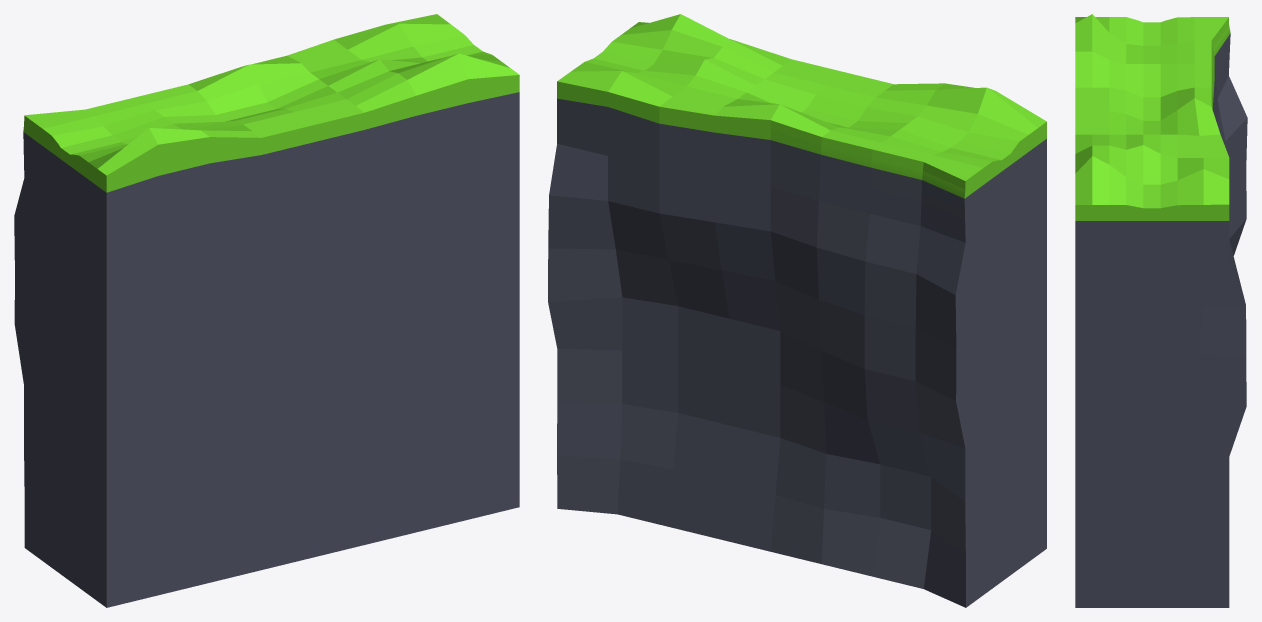
The model's file is WallBlockFixed.dae.
3 views of the same model, side by side, from view 1: azimuth 30°, elevation 25°; view 2: azimuth 150°, elevation 25°; view 3: azimuth 270°, elevation 25° (orthographic). The views are drawn at different scales.
Visible parts, largest first — view 1: WallBlockFixed; view 2: WallBlockFixed; view 3: WallBlockFixed.
Boxes of the visible parts, bbox=[...] form: WallBlockFixed: bbox=[14, 14, 519, 607]; WallBlockFixed: bbox=[548, 14, 1046, 607]; WallBlockFixed: bbox=[1075, 14, 1247, 607].
Size of the model in its own units: 155 by 166 by 60.26.
